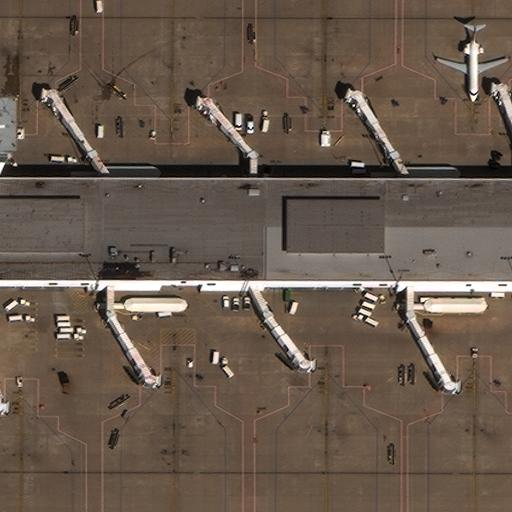Medium Civil Transport: (436, 23, 509, 102)
